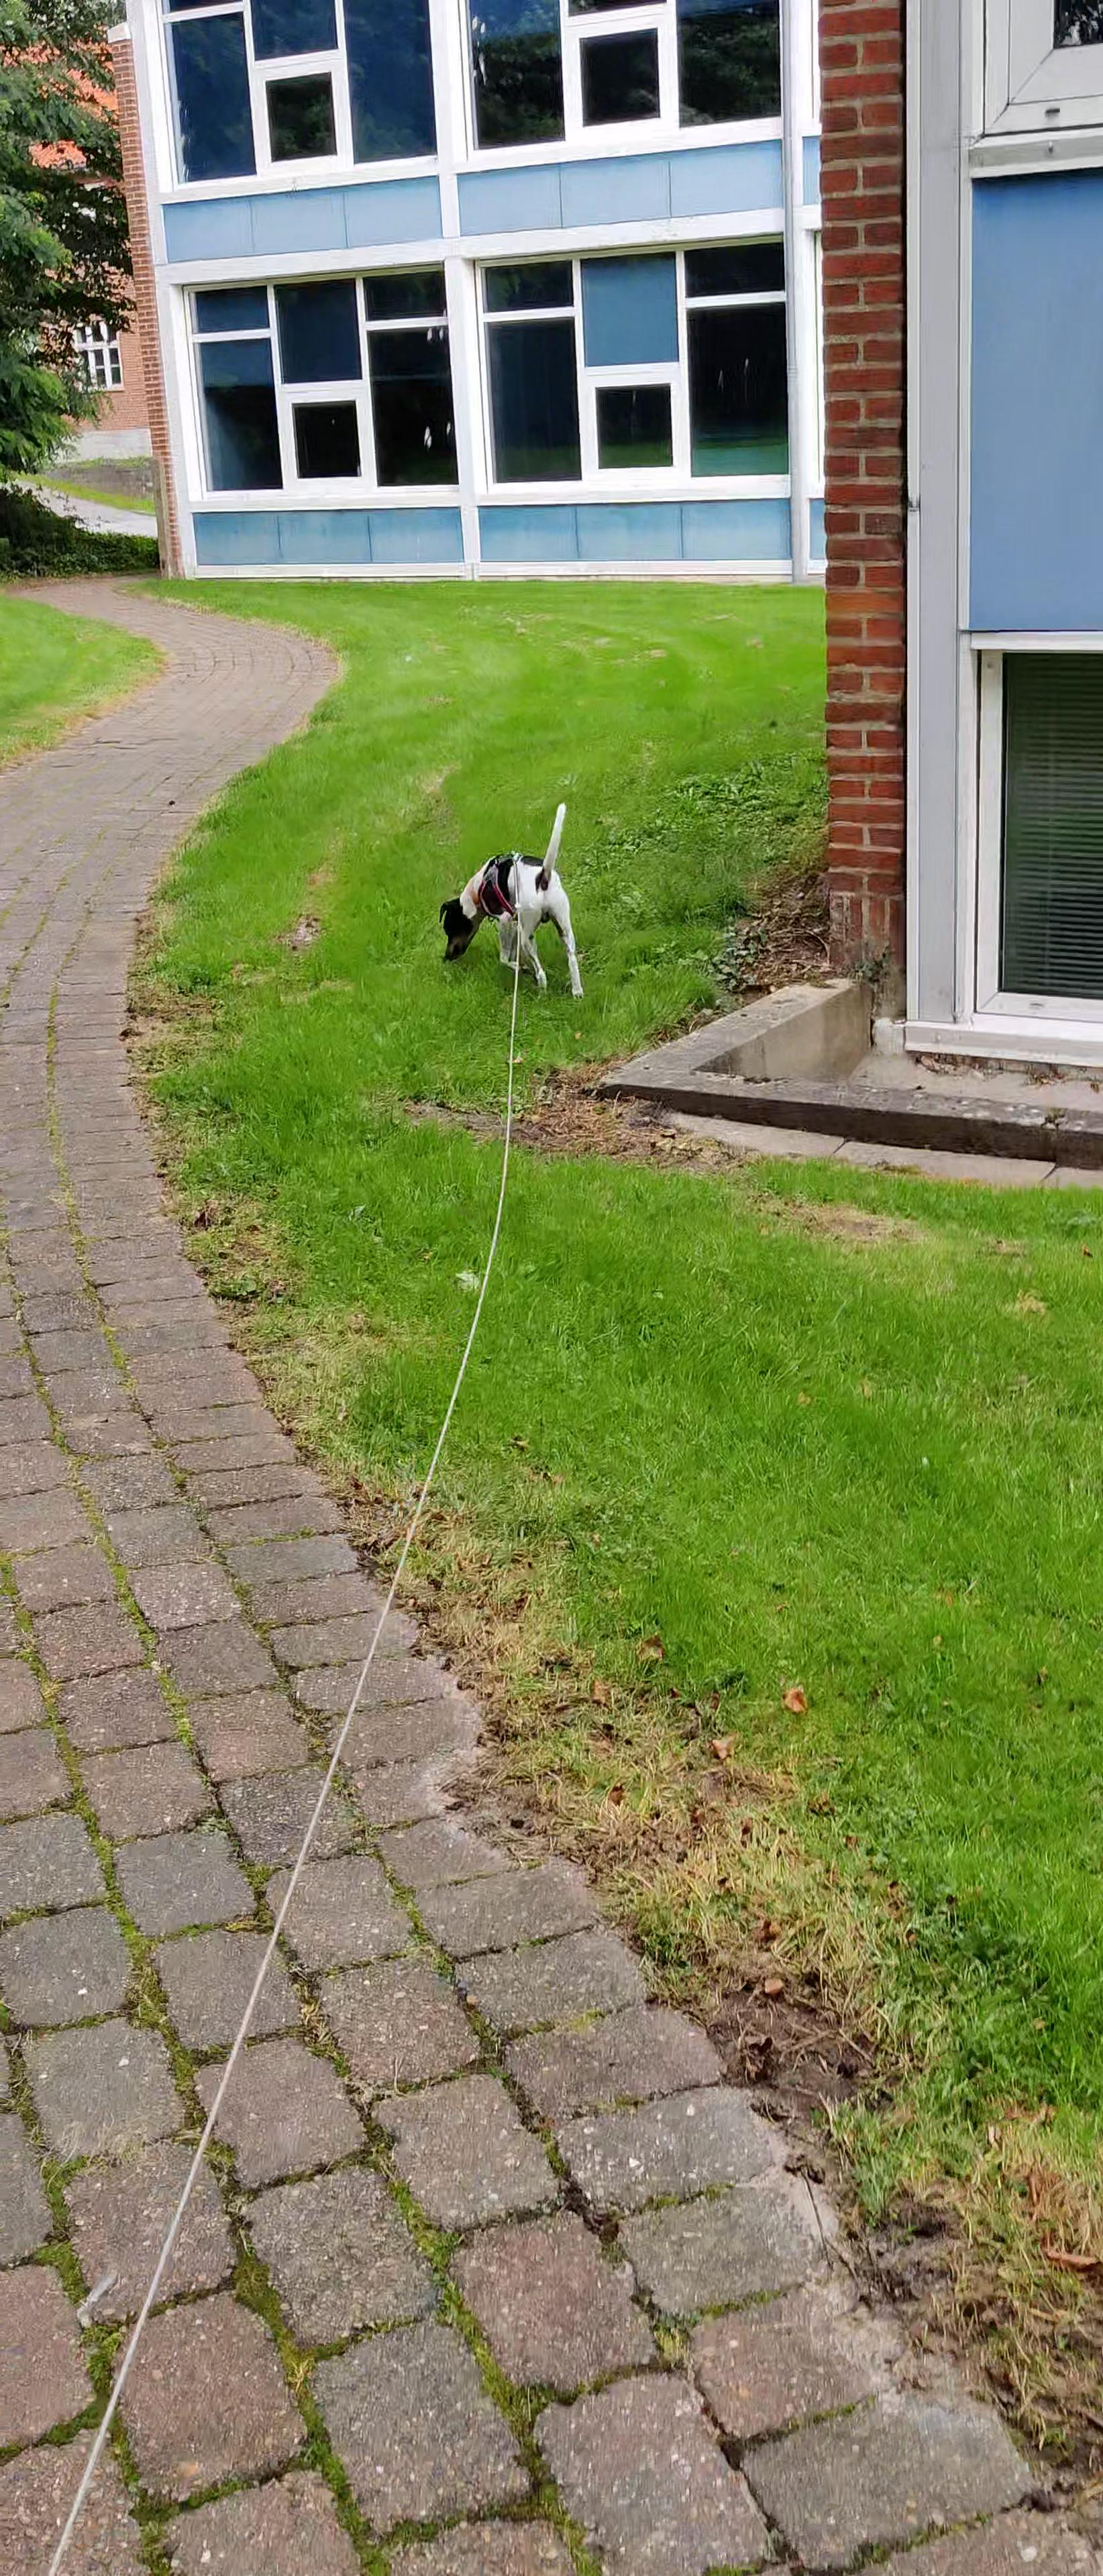Dog: (429, 798, 603, 1005)
